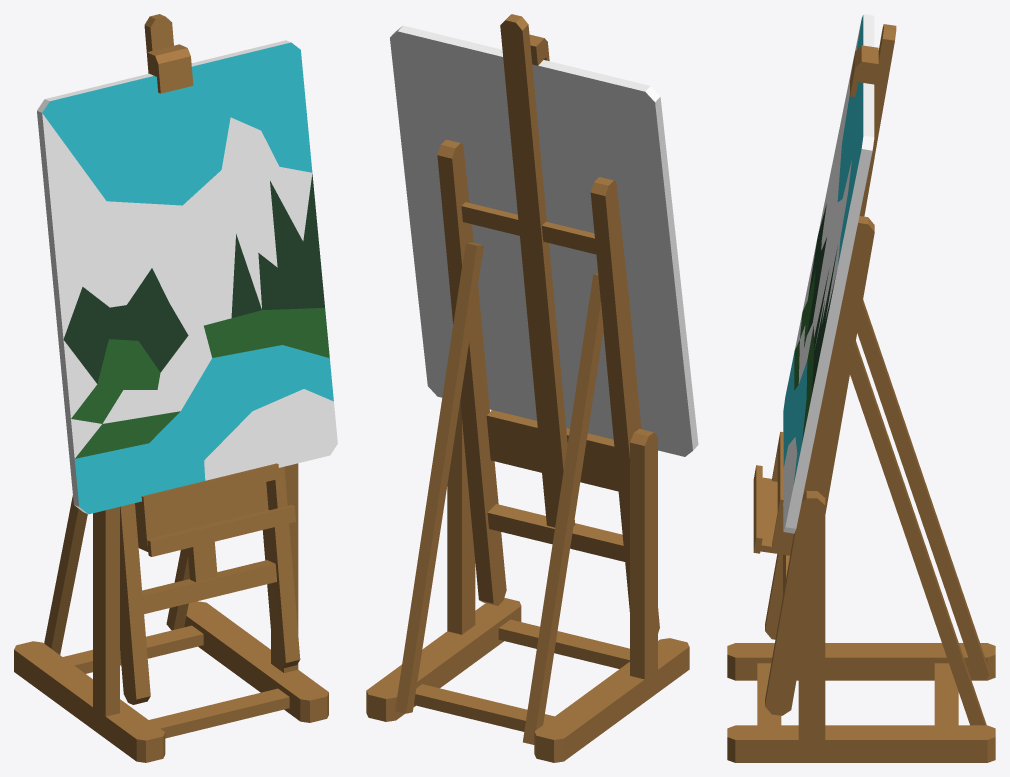
The model's file is furniture_stand-easel-canvas-vertical-nature.fbx.
3 renders of one model, left to right at view 1: azimuth 30°, elevation 25°; view 2: azimuth 150°, elevation 25°; view 3: azimuth 270°, elevation 25°, orthographic. The views are drawn at different scales.
Visible parts, largest first — view 1: furniture_stand_easel_canvas_vertical_nature; view 2: furniture_stand_easel_canvas_vertical_nature; view 3: furniture_stand_easel_canvas_vertical_nature.
Boxes of the visible parts, x1,y1,x2,y2 form: furniture_stand_easel_canvas_vertical_nature: [14, 14, 337, 762]; furniture_stand_easel_canvas_vertical_nature: [366, 14, 698, 762]; furniture_stand_easel_canvas_vertical_nature: [727, 14, 995, 762].
Size of the model in its own units: 81.1 by 200 by 70.64.
